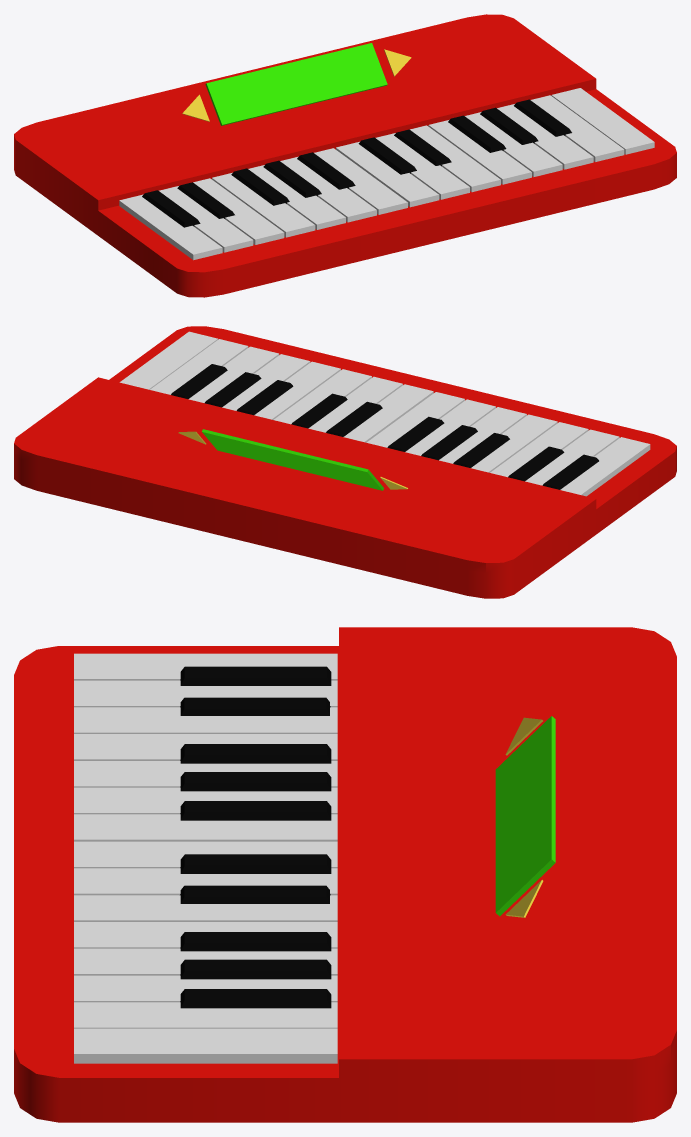
The model's file is NewPiano.gltf.
3 renders of one model, top to bottom at view 1: azimuth 30°, elevation 25°; view 2: azimuth 150°, elevation 25°; view 3: azimuth 270°, elevation 25°, orthographic. The views are drawn at different scales.
Visible parts, largest first — view 1: Piano Frame, Screen, A Key.003, C Key.001, C Key.002, B Key.002, B Key.001, F Key.001, F Key.002, E Key.001, E Key.002, D Key.001 (+15 smaller); view 2: Piano Frame, Screen, A Key.003, C Key.001, C Key.002, B Key.001, B Key.002, F Key.001, F Key.002, E Key.001, E Key.002, D Key.001 (+15 smaller); view 3: Piano Frame, A Key.003, Screen, B Key.001, B Key.002, E Key.001, E Key.002, C Key.001, C Key.002, D Key.001, D Key.002, A Key.001 (+15 smaller).
Boxes of the visible parts, x1,y1,x2,y2 form: Piano Frame: (14, 14, 676, 297); Screen: (205, 43, 387, 125); A Key.003: (551, 88, 654, 154); C Key.001: (119, 194, 222, 260); C Key.002: (336, 141, 439, 207); B Key.002: (530, 95, 624, 161); B Key.001: (314, 148, 407, 214); F Key.001: (212, 172, 315, 237); F Key.002: (428, 120, 531, 184); E Key.001: (193, 178, 284, 244); E Key.002: (410, 125, 500, 192); D Key.001: (159, 186, 253, 252); Piano Frame: (14, 326, 676, 598); Screen: (202, 429, 383, 490); A Key.003: (119, 331, 218, 389); C Key.001: (560, 437, 650, 496); C Key.002: (343, 384, 433, 442); B Key.001: (366, 392, 464, 447); B Key.002: (150, 339, 248, 394); F Key.001: (471, 414, 557, 472); F Key.002: (254, 361, 340, 419); E Key.001: (490, 422, 588, 477); E Key.002: (274, 369, 371, 424); D Key.001: (525, 429, 619, 485); Piano Frame: (14, 627, 676, 1122); A Key.003: (74, 1028, 337, 1063); Screen: (495, 716, 555, 916); B Key.001: (74, 814, 337, 841); B Key.002: (74, 1002, 337, 1028); E Key.001: (74, 707, 337, 733); E Key.002: (74, 895, 337, 921); C Key.001: (74, 653, 337, 680); C Key.002: (74, 841, 337, 868); D Key.001: (74, 680, 337, 707); D Key.002: (74, 868, 337, 895); A Key.001: (74, 787, 337, 814).
Bounding box in the file's own units: 4.26 × 0.5553 × 2.77.
